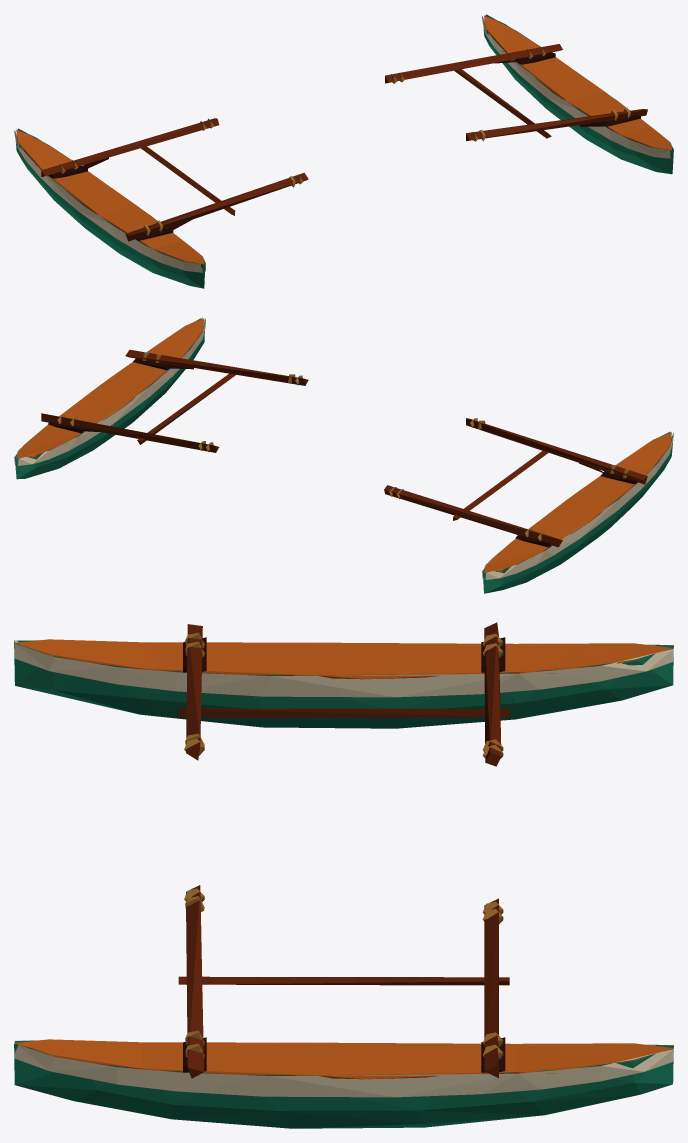
Rendered from tb_sloop_outriggers.three-web-toon.lod25.glb.
3 views of the same model, one above another, from view 1: azimuth 30°, elevation 25°; view 2: azimuth 150°, elevation 25°; view 3: azimuth 270°, elevation 25° (orthographic). The views are drawn at different scales.
Parts seen in each view (by area): view 1: outrigger_port_lod, outrigger_starboard_lod; view 2: outrigger_port_lod, outrigger_starboard_lod; view 3: outrigger_starboard_lod, outrigger_port_lod.
Part boxes in pixels (x1,y1,x2,y2): outrigger_port_lod: [14, 118, 308, 288]; outrigger_starboard_lod: [385, 14, 673, 174]; outrigger_port_lod: [384, 418, 673, 593]; outrigger_starboard_lod: [14, 317, 308, 479]; outrigger_starboard_lod: [14, 885, 673, 1128]; outrigger_port_lod: [14, 622, 673, 766].
Size of the model in its own units: 9.7 by 1.14 by 6.1.
